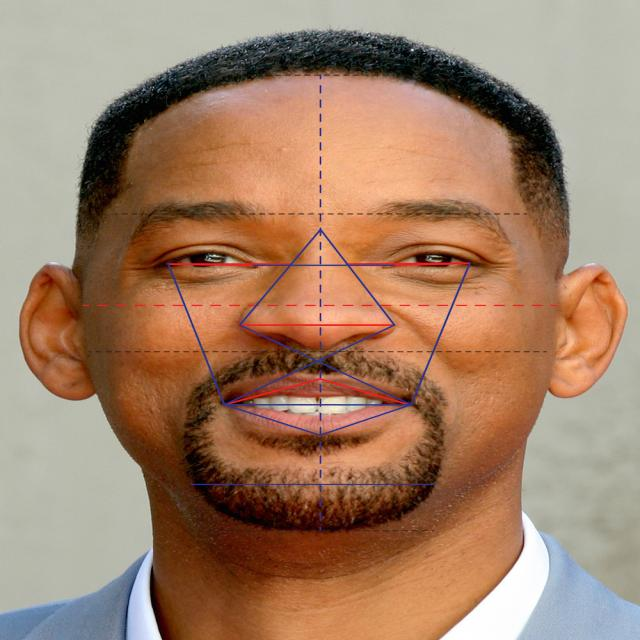earlobe: (48, 359, 98, 403), (548, 360, 589, 400)
eye: (155, 248, 254, 270), (391, 250, 475, 270)
nose: (242, 326, 398, 382)
wholeear: (17, 261, 100, 403), (550, 262, 628, 400)
